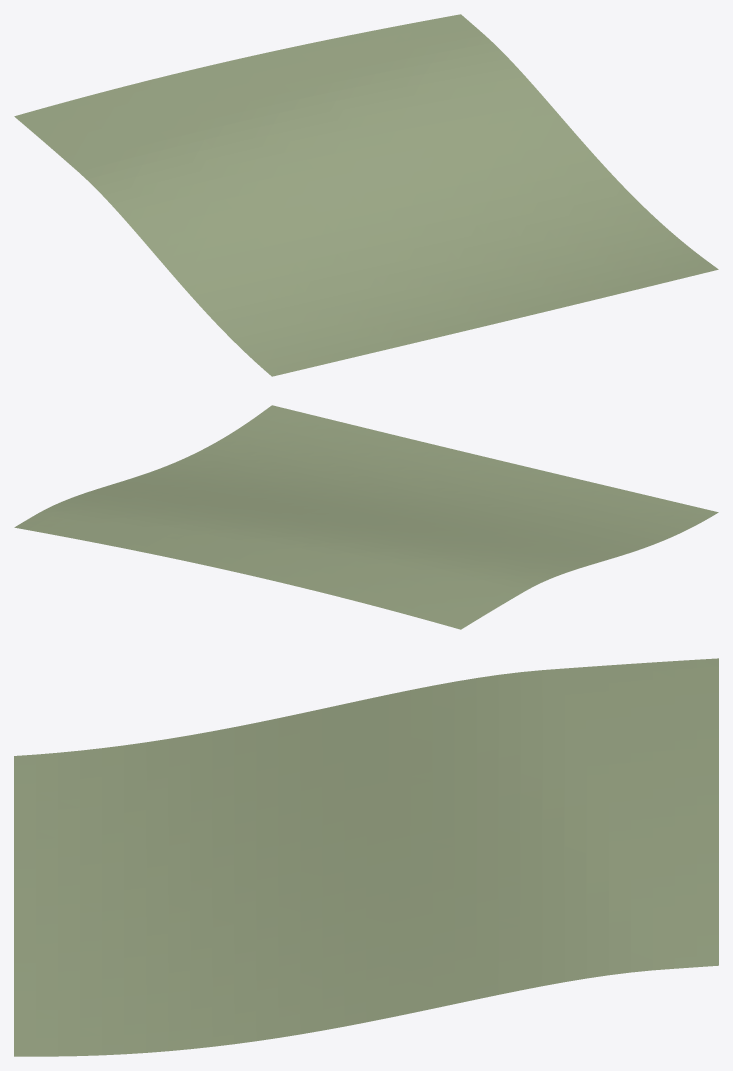
Rendered from valley-15-7.glb.
3 views of the same model, one above another, from view 1: azimuth 30°, elevation 25°; view 2: azimuth 150°, elevation 25°; view 3: azimuth 270°, elevation 25° (orthographic). The views are drawn at different scales.
Parts seen in each view (by area): view 1: valley-15-7; view 2: valley-15-7; view 3: valley-15-7.
Part boxes in pixels (x1=…): valley-15-7: x1=14, y1=14, x2=718, y2=376; valley-15-7: x1=14, y1=405, x2=718, y2=629; valley-15-7: x1=14, y1=658, x2=718, y2=1056.
Size of the model in its own units: 256 by 41.94 by 256.
